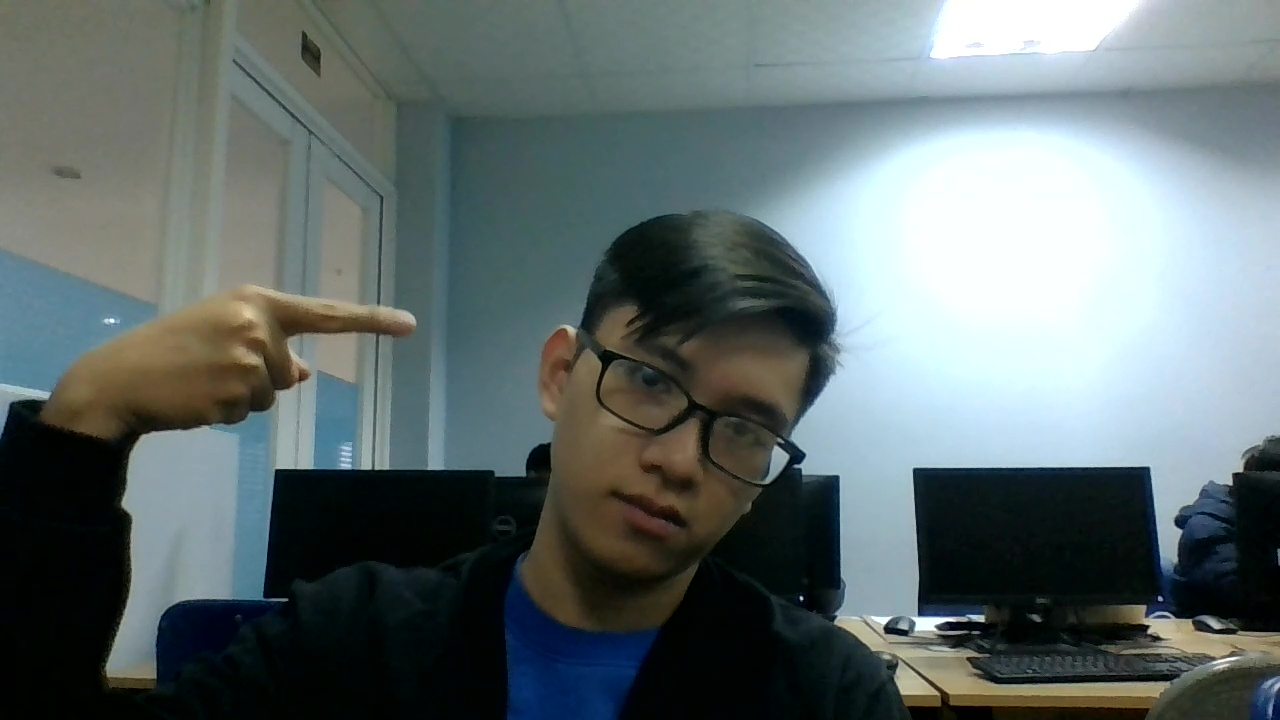left: (101, 279, 419, 433)
